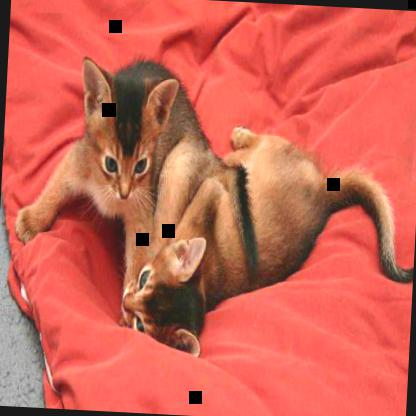cat: (118, 120, 415, 370), (14, 40, 271, 286)
